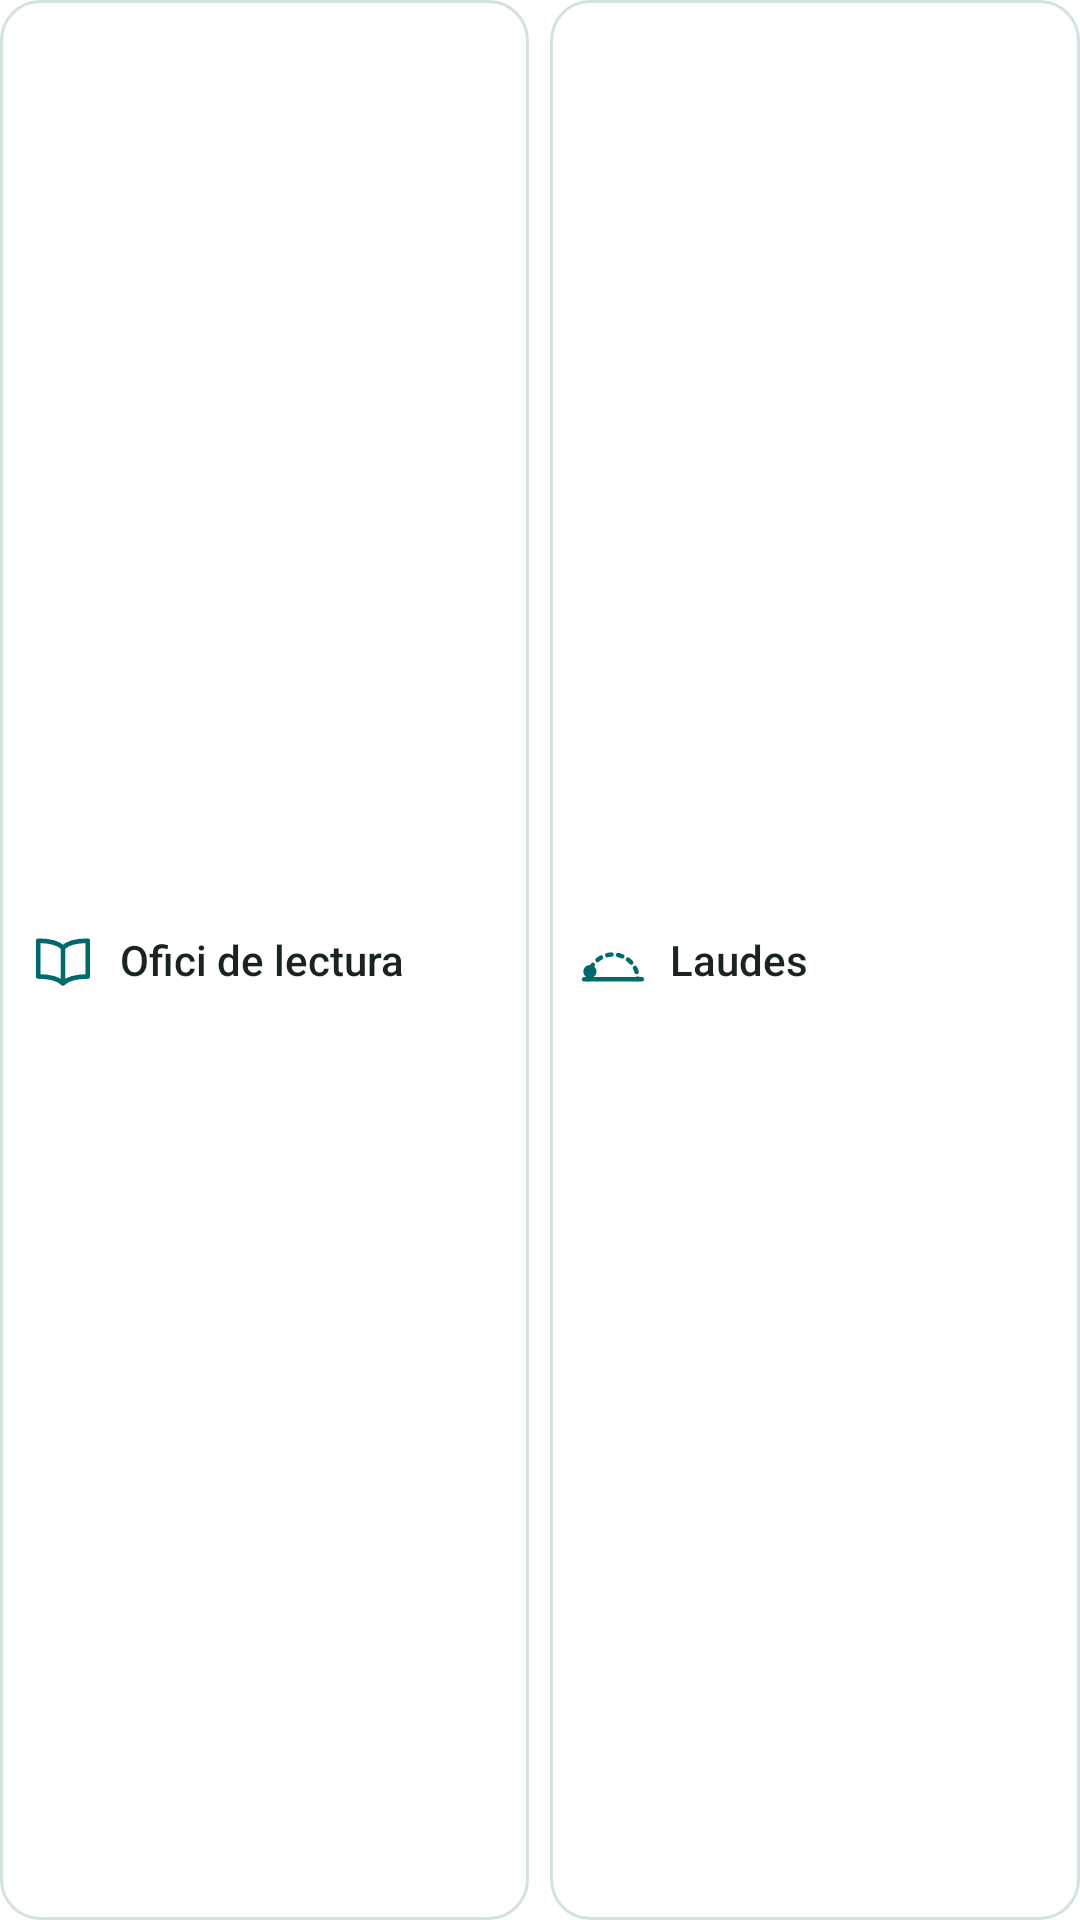

Where icons sit on this 1080 x 1920 app screen, as (x1, y1, x2, y2):
hour ofici: (36, 938, 90, 986)
